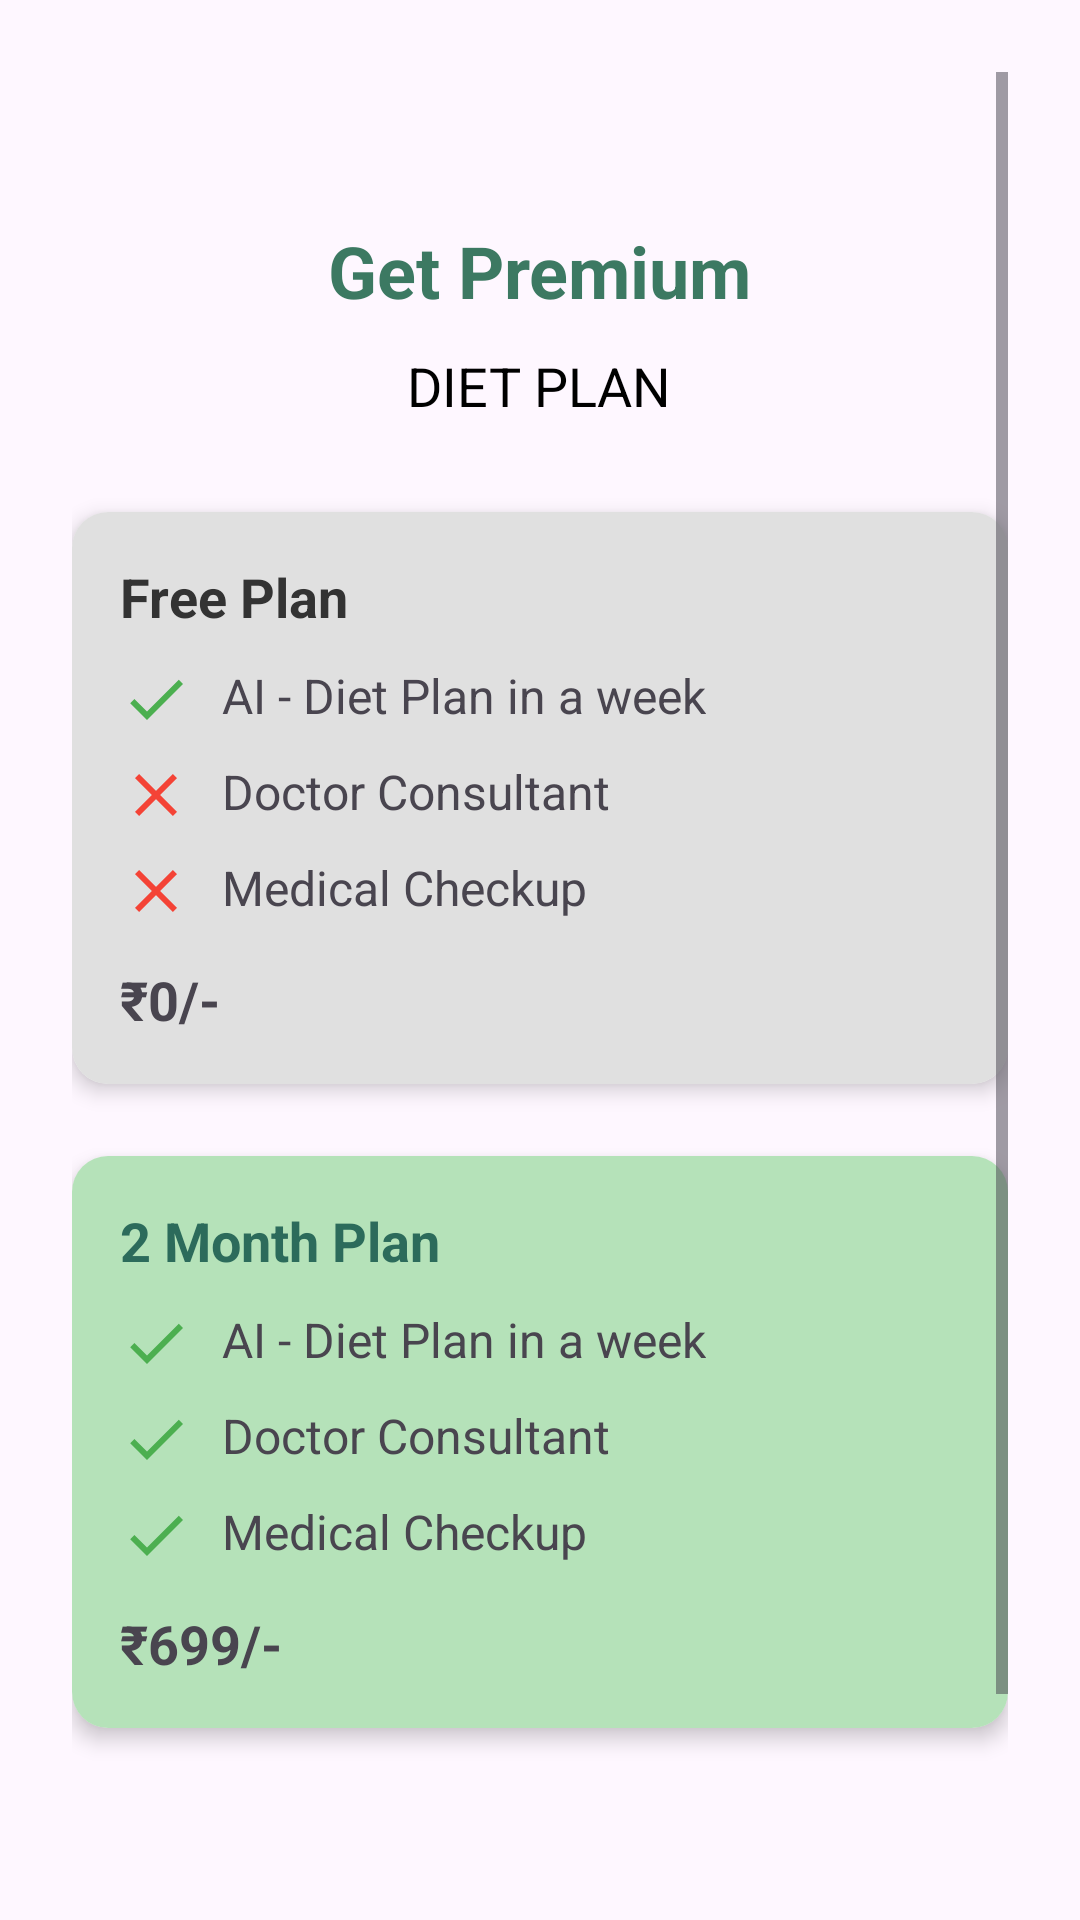

Named icons in this screenshot (1080 × 1920) and their centers, [x,y]:
cross: [156,795], [156,891]
